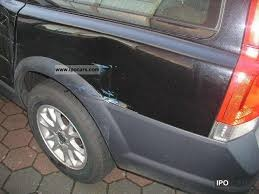Broken-glass: (83, 62, 131, 105)
Dent: (184, 60, 207, 105)
